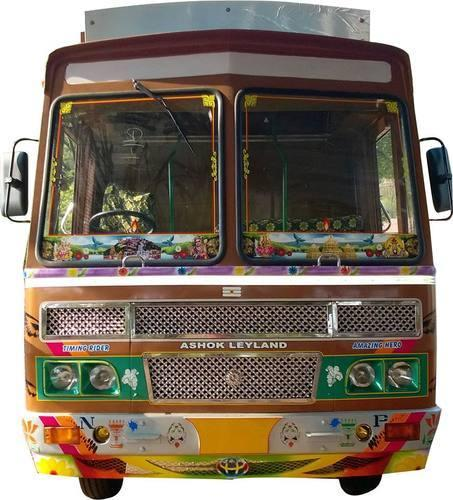truck: (1, 2, 453, 499)
